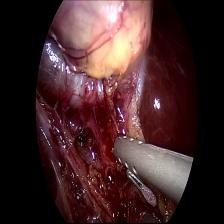Irrigator: (111, 131, 156, 185)
